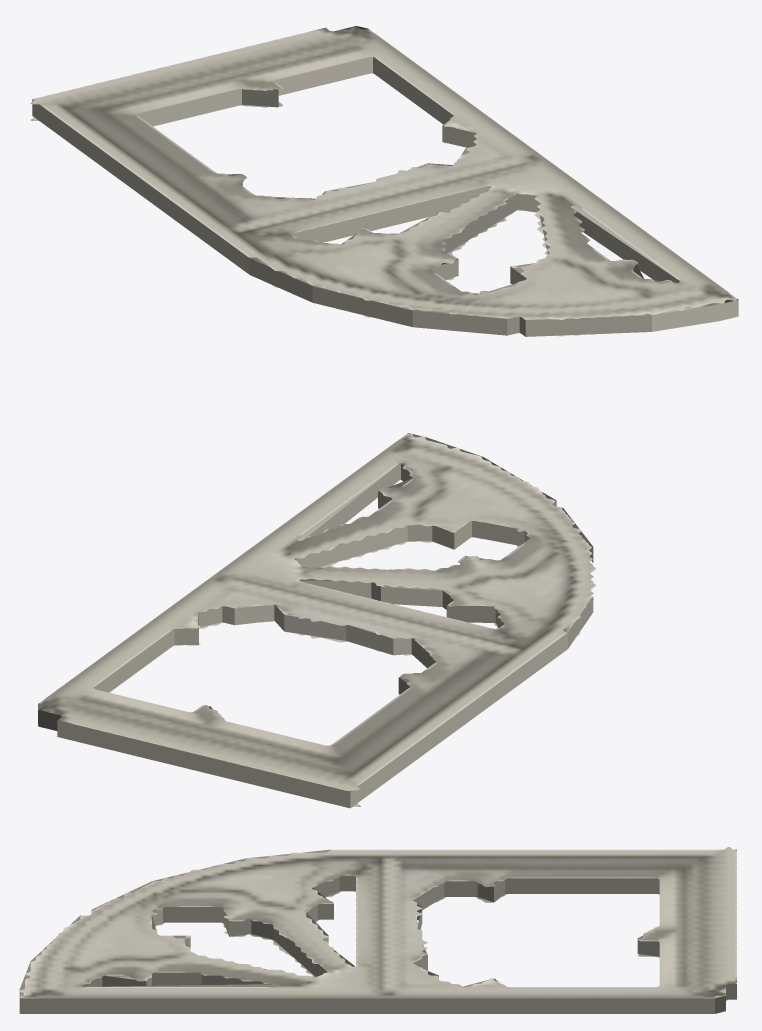
File: pz_native_fixtures_windows_church_97_frame.obj
3 renders of one model, top to bottom at view 1: azimuth 30°, elevation 25°; view 2: azimuth 150°, elevation 25°; view 3: azimuth 270°, elevation 25°, orthographic. The views are drawn at different scales.
Visible parts, largest first — view 1: pz_native_fixtures_windows_church_97_frame; view 2: pz_native_fixtures_windows_church_97_frame; view 3: pz_native_fixtures_windows_church_97_frame.
Boxes of the visible parts, x1=… form: pz_native_fixtures_windows_church_97_frame: x1=30, y1=26, x2=738, y2=336; pz_native_fixtures_windows_church_97_frame: x1=38, y1=433, x2=596, y2=808; pz_native_fixtures_windows_church_97_frame: x1=19, y1=847, x2=736, y2=1013.
Size of the model in its own units: 0.8594 by 0.04 by 1.7.
Materials: 1 (1 with a texture image).
